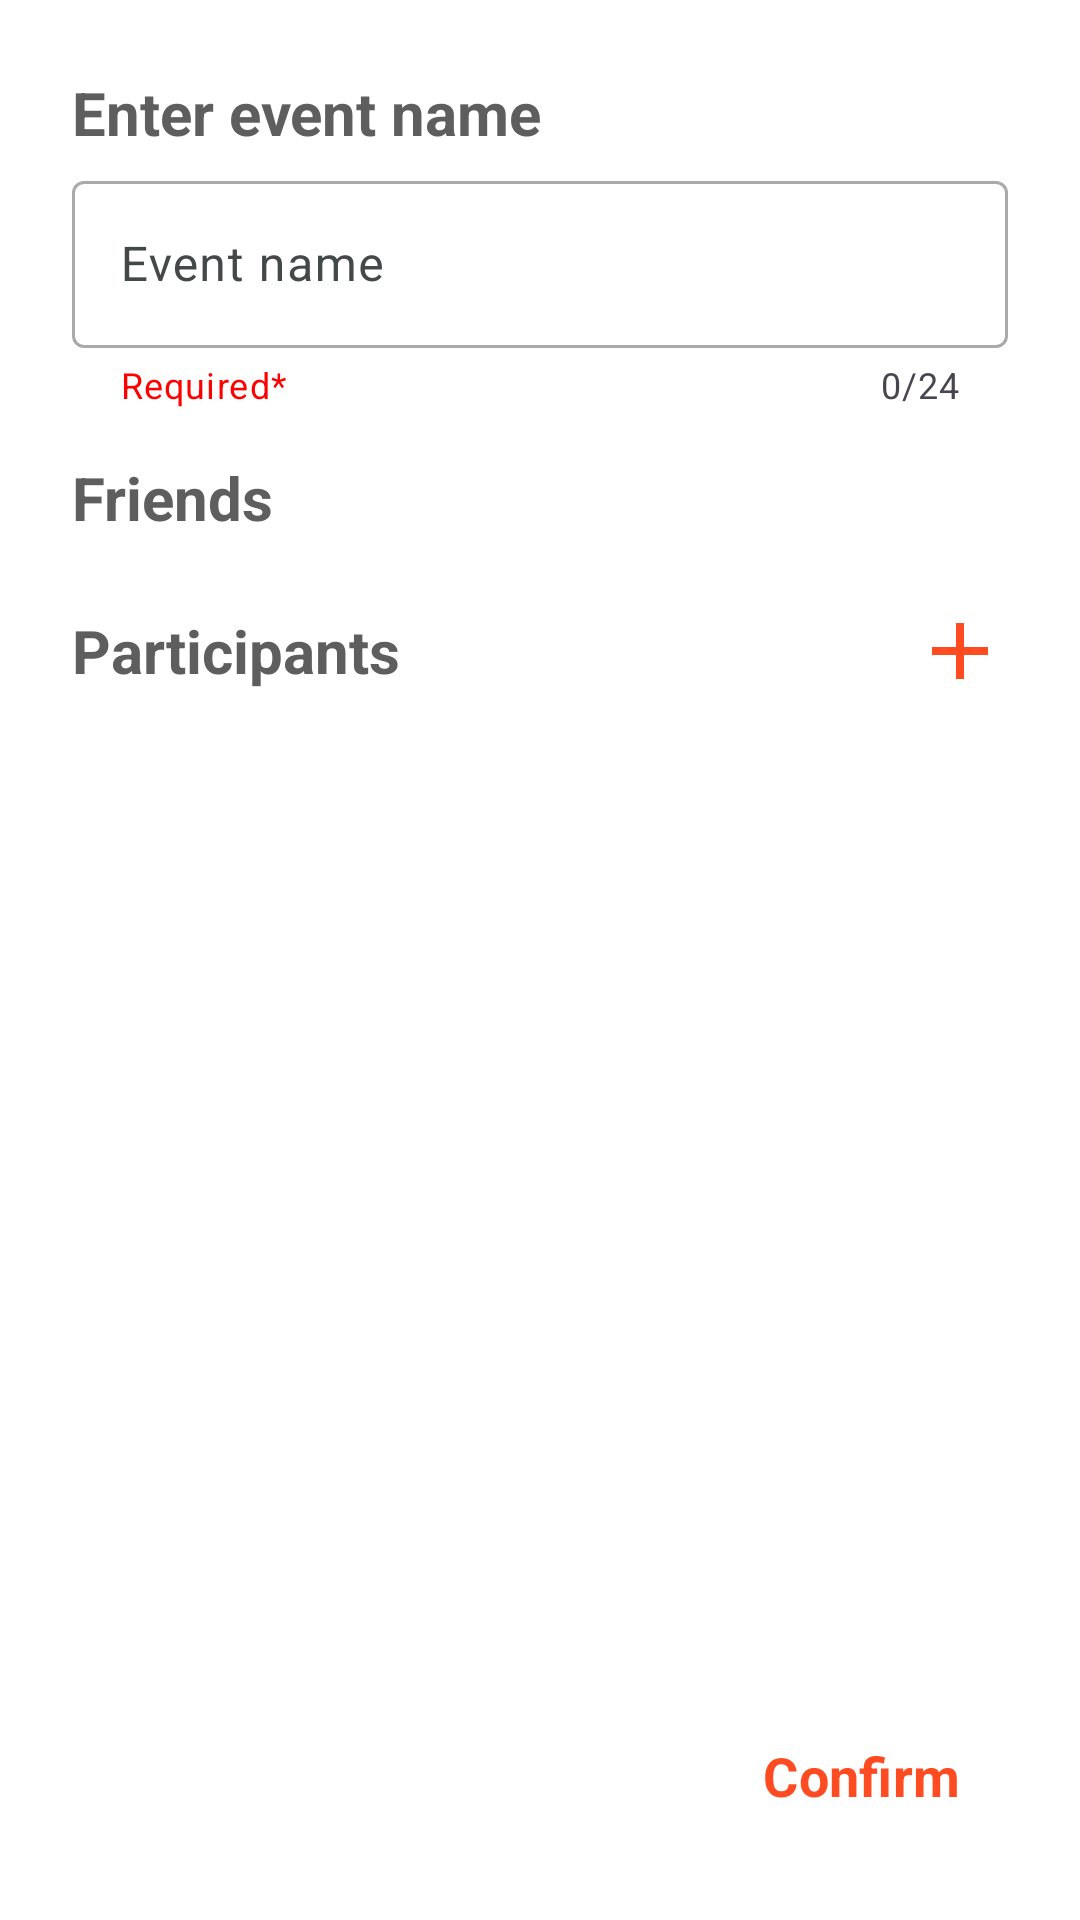

Named icons in this screenshot (1080w x 1920h) and their bounding boxes, {"x1": x1, "y1": y1, "x2": x2, "y2": y2}:
add: {"x1": 932, "y1": 623, "x2": 988, "y2": 679}
